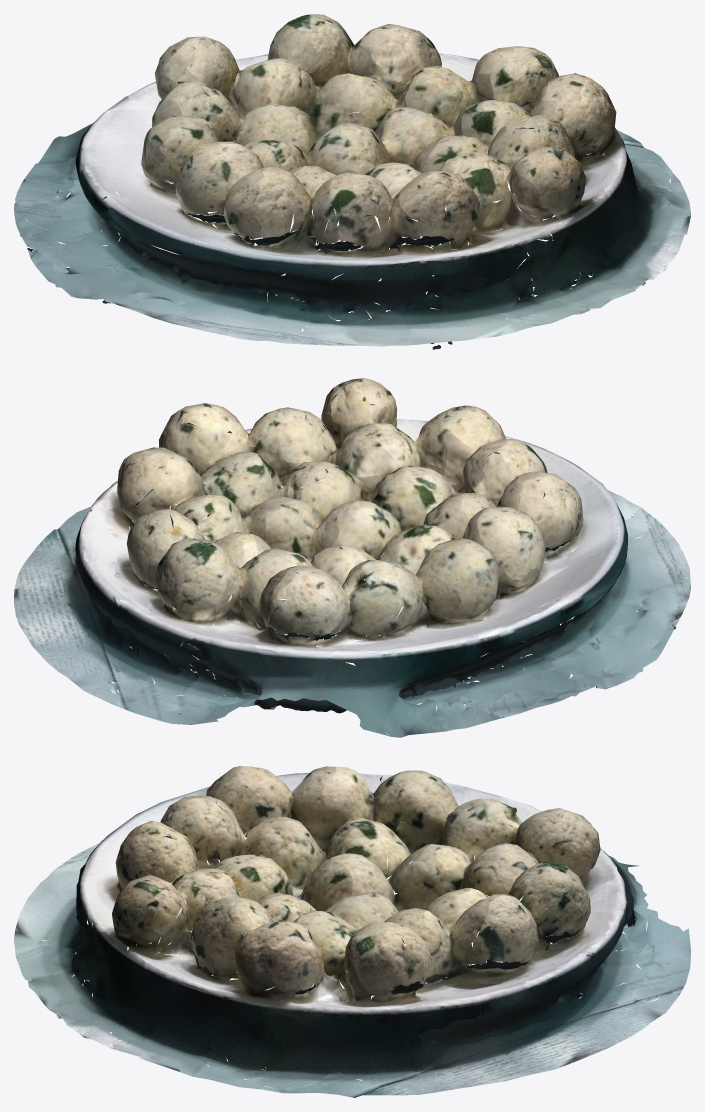
File: ricota-v03.glb
3 renders of one model, top to bottom at view 1: azimuth 30°, elevation 25°; view 2: azimuth 150°, elevation 25°; view 3: azimuth 270°, elevation 25°, orthographic.
Visible parts, largest first — view 1: Object_2, Object_4, Object_3; view 2: Object_2, Object_4, Object_3; view 3: Object_2, Object_4, Object_3.
Boxes of the visible parts, <box> form: Object_2: <box>14,16,690,349</box>; Object_4: <box>14,20,685,340</box>; Object_3: <box>15,14,548,346</box>; Object_2: <box>14,378,690,735</box>; Object_4: <box>40,380,689,736</box>; Object_3: <box>66,408,661,737</box>; Object_2: <box>14,766,659,1097</box>; Object_4: <box>14,767,689,1093</box>; Object_3: <box>33,853,690,1022</box>.
Bounding box in the file's own units: 0.26 × 0.0534 × 0.26.
2 materials, 2 textured.
